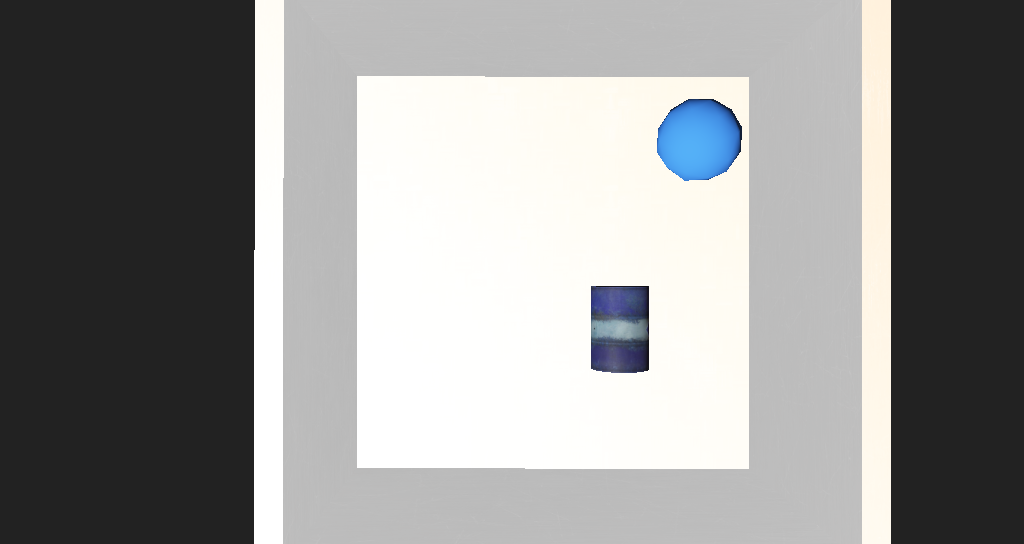cone: (536, 279, 583, 322)
cylinder: (532, 429, 613, 525)
sphere: (579, 172, 647, 220)
